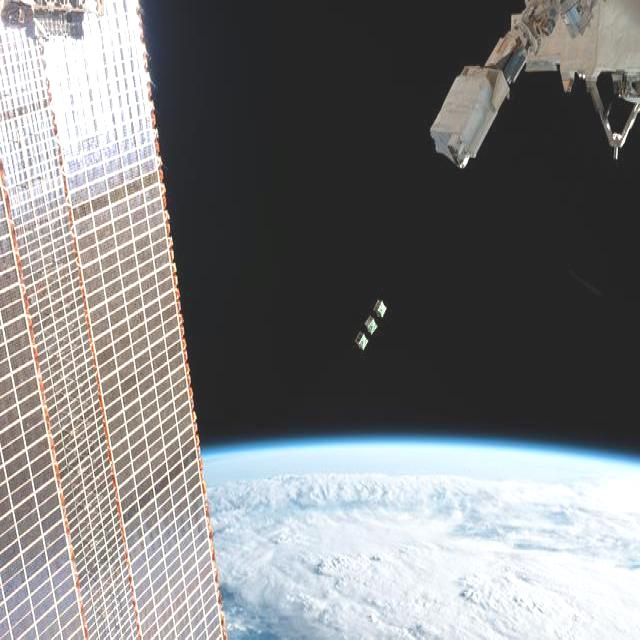medium_debris: (0, 0, 225, 638), (355, 315, 378, 350), (374, 299, 386, 319)
